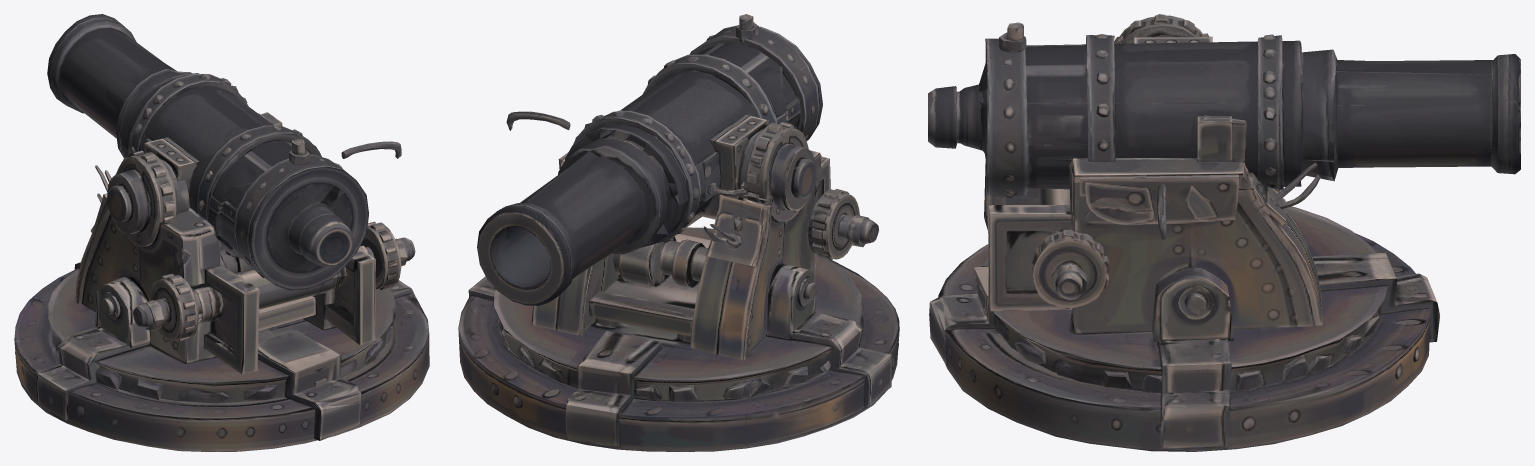
File: cannon33a-b-8000.glb
The picture shows the model from 3 angles, left to right: view 1: azimuth 30°, elevation 25°; view 2: azimuth 150°, elevation 25°; view 3: azimuth 270°, elevation 25°; orthographic projection. The views are drawn at different scales.
Visible parts, largest first — view 1: mount, barrel; view 2: mount, barrel; view 3: mount, barrel.
Boxes of the visible parts, <box> form: mount: <box>14,137,429,451</box>; barrel: <box>47,14,368,295</box>; mount: <box>458,111,899,451</box>; barrel: <box>477,14,822,305</box>; mount: <box>929,15,1439,451</box>; barrel: <box>928,14,1520,246</box>.
Bounding box in the file's own units: 2.57 × 1.82 × 3.
1 material, 1 textured.
